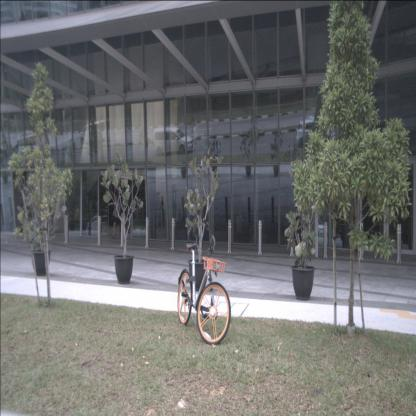human-pedestrian-adult: (111, 194, 121, 239)
vehicle-bicycle: (178, 218, 231, 345), (284, 138, 298, 163)
vehicle-car: (152, 126, 194, 157), (296, 119, 335, 149), (78, 119, 106, 146), (301, 217, 329, 238), (87, 214, 111, 233), (17, 129, 38, 147)
